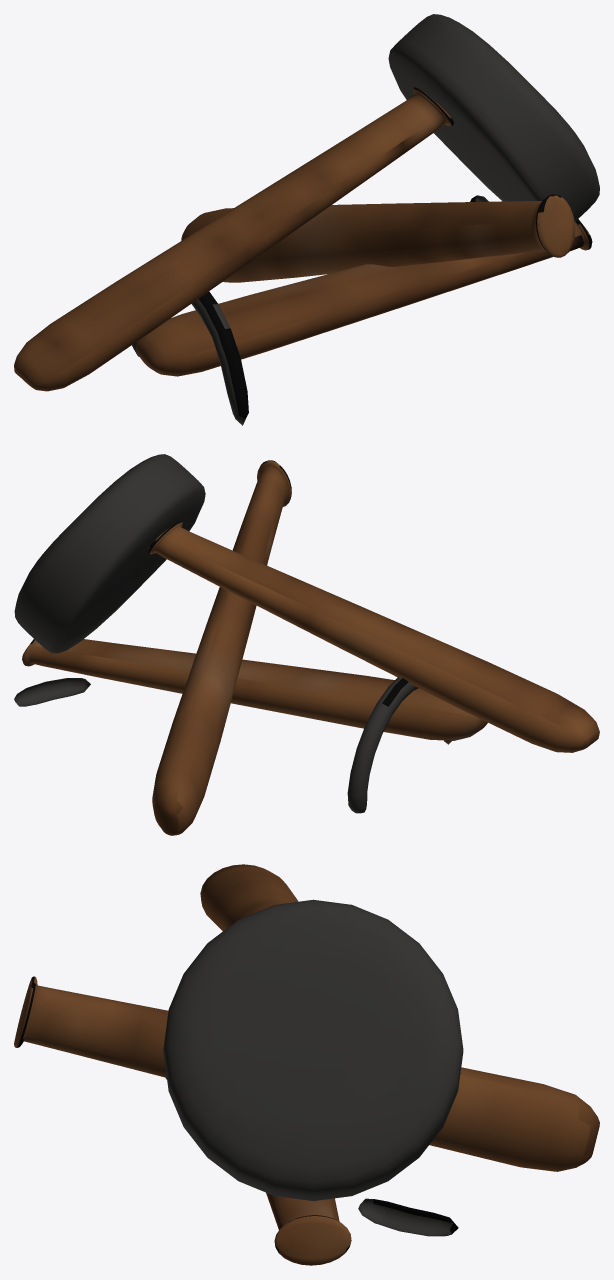
File: BancoQuebrado.fbx
The picture shows the model from 3 angles, top to bottom: view 1: azimuth 30°, elevation 25°; view 2: azimuth 150°, elevation 25°; view 3: azimuth 270°, elevation 25°; orthographic projection. The views are drawn at different scales.
Visible parts, largest first — view 1: BancoQuebrado; view 2: BancoQuebrado; view 3: BancoQuebrado.
Boxes of the visible parts, x1,y1,x2,y2 form: BancoQuebrado: (14, 14, 599, 425); BancoQuebrado: (14, 454, 599, 835); BancoQuebrado: (14, 864, 599, 1265).
Bounding box in the file's own units: 80.57 × 38.47 × 58.76.
